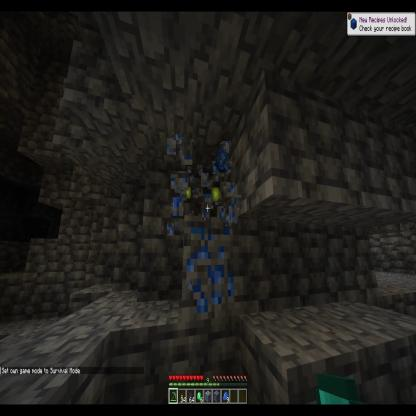lapis ore: (182, 213, 238, 317)
